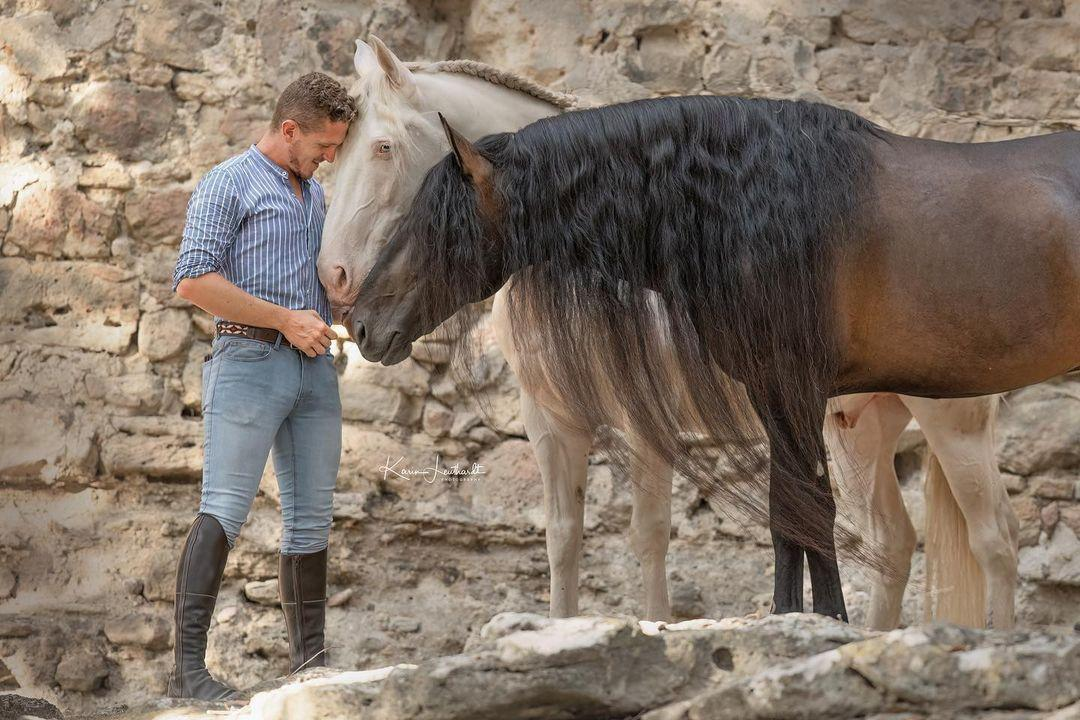horse: (344, 90, 1079, 632)
